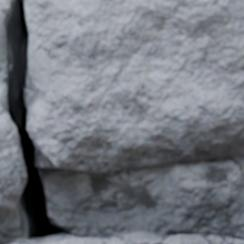brick: (6, 232, 243, 243)
broken_brick: (28, 0, 243, 174), (0, 46, 25, 209), (0, 2, 7, 41)
crack: (0, 0, 73, 241)
